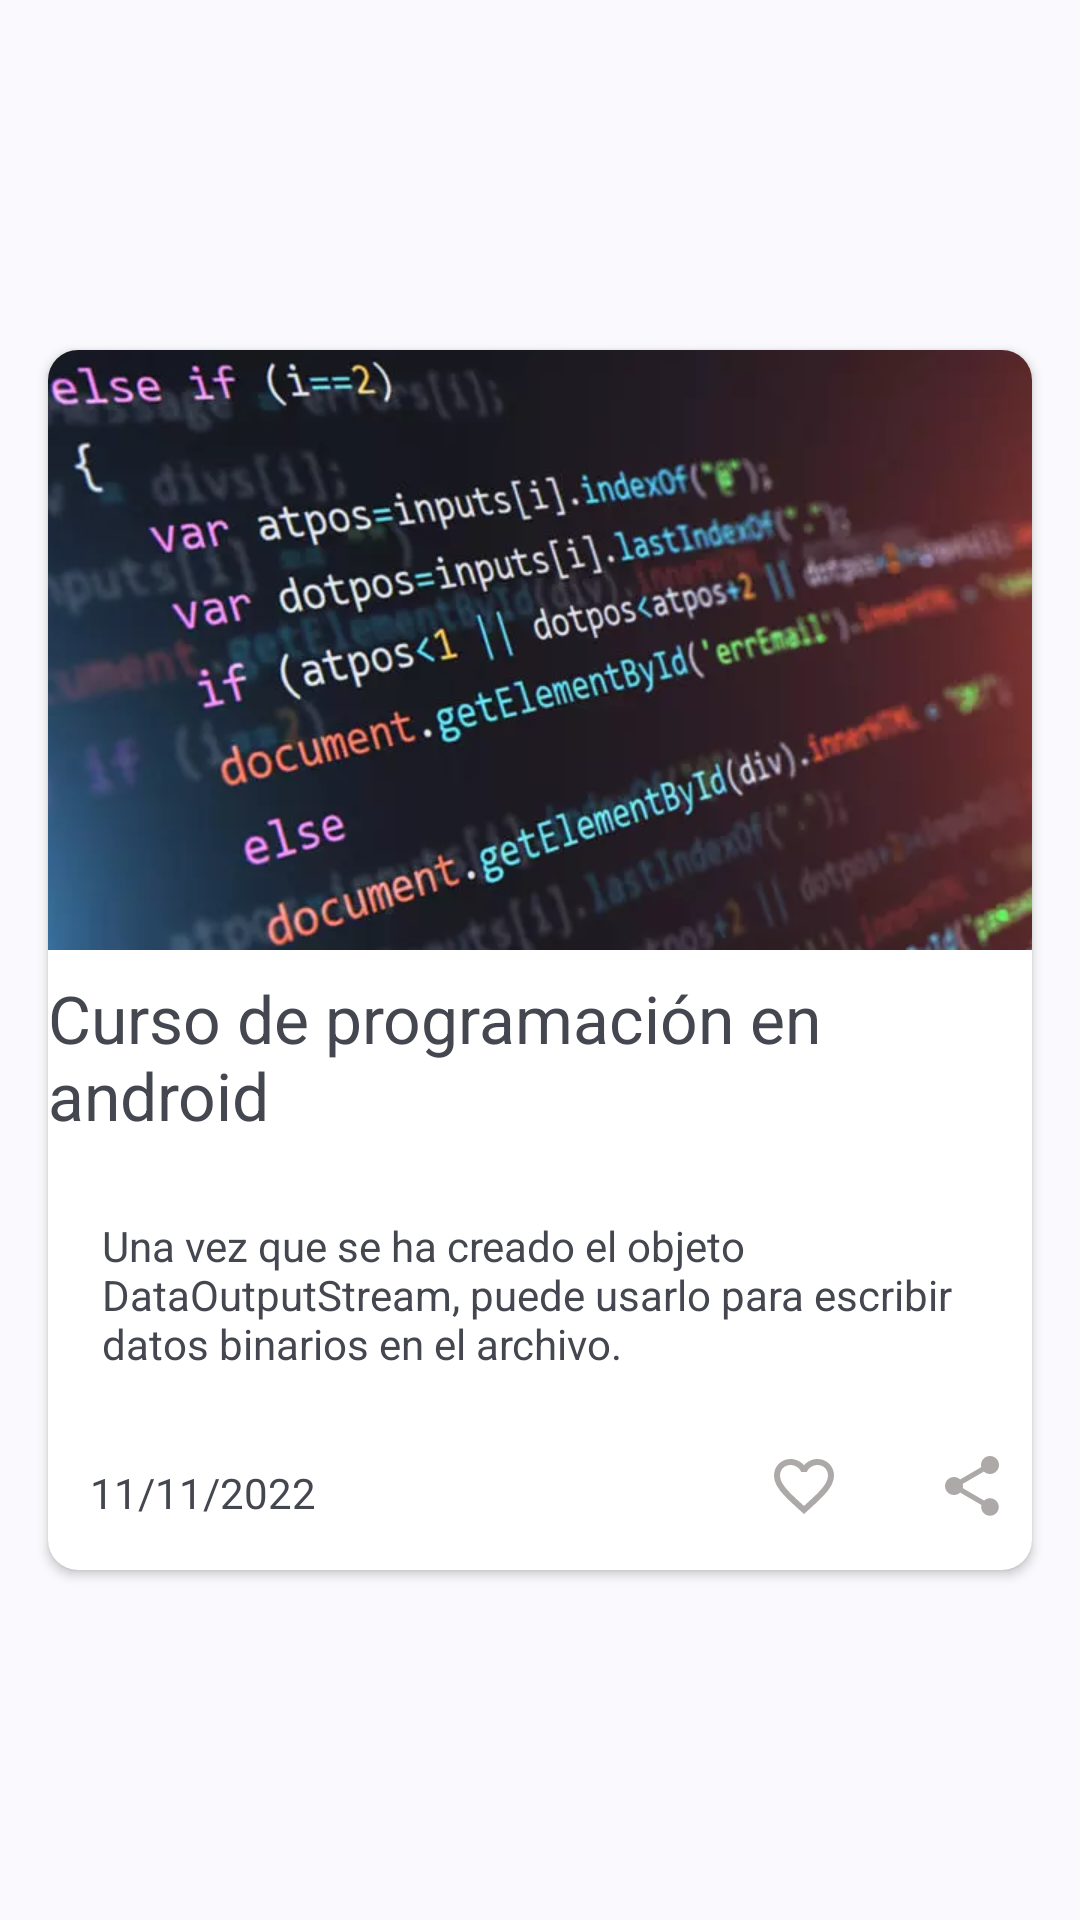

Screen size 1080×1920. Icon name, then its center in pixels as point (x, y):
favorite border: point (804, 1486)
share: point (972, 1486)
